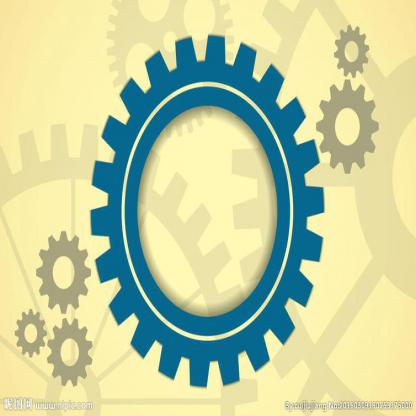FOD: (36, 229, 91, 316), (331, 23, 372, 81)
